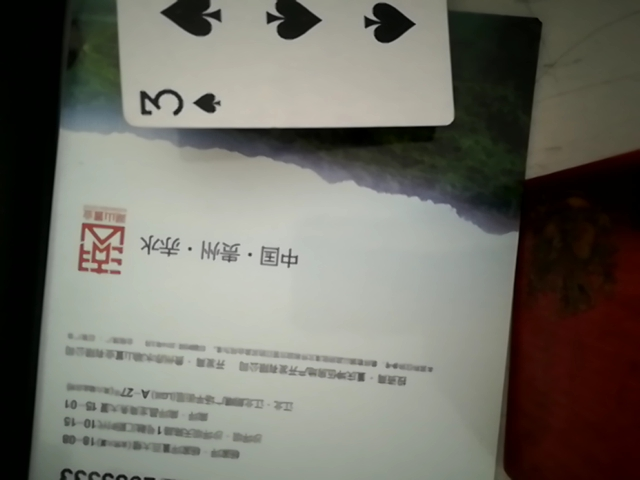ht 3: (118, 0, 462, 135)
